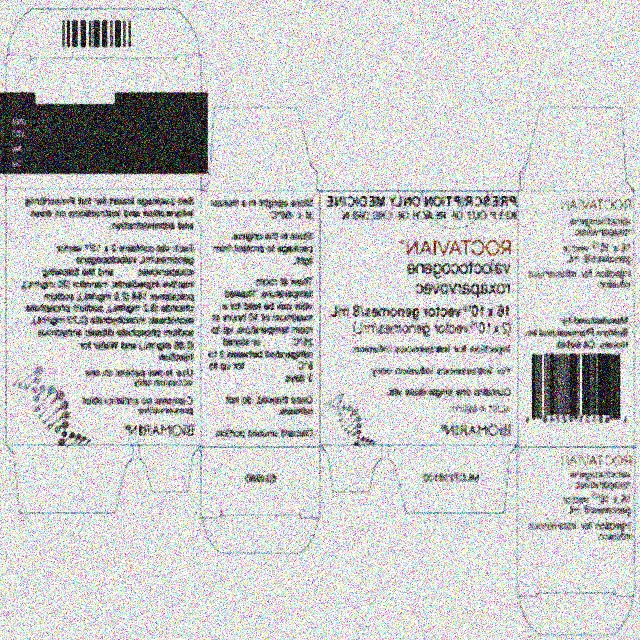Artwork: (0, 0, 640, 640)
Back_Panel: (6, 188, 200, 446)
Bottom_Part: (6, 55, 201, 189)
Extra_Areas: (6, 6, 202, 57), (519, 105, 636, 190), (203, 106, 319, 190), (5, 444, 134, 516), (386, 445, 517, 515), (201, 446, 320, 518), (518, 596, 634, 636), (202, 518, 318, 553), (321, 446, 384, 497), (138, 445, 201, 494)
Front_Panel: (320, 191, 518, 446)
Side_Panel: (201, 191, 320, 446), (518, 191, 635, 446)
Top_Panel: (517, 446, 634, 596)
